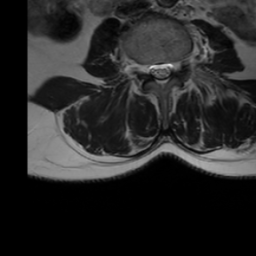CCS_normal: (156, 55, 164, 92)
LFS_normal: (174, 52, 184, 80)
LLS_normal: (164, 55, 173, 82)
RFS_normal: (138, 55, 148, 82)
RLS_normal: (148, 56, 156, 83)
